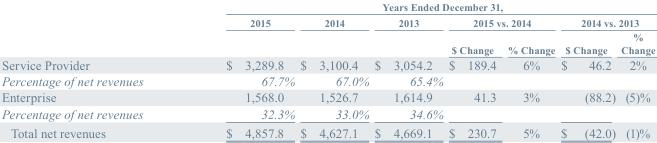table: (0, 0, 654, 140)
table column: (0, 0, 183, 140), (183, 0, 296, 140), (370, 0, 445, 140), (296, 0, 370, 140), (557, 0, 617, 140), (445, 0, 501, 140), (501, 0, 557, 140), (617, 0, 654, 140)
table column header: (0, 0, 654, 56)
table row: (0, 29, 654, 56), (0, 105, 654, 123), (0, 88, 654, 105), (0, 123, 654, 140), (0, 56, 654, 72), (0, 72, 654, 88), (0, 14, 654, 29), (0, 0, 654, 14)
table spanning cell: (183, 0, 654, 14), (183, 14, 296, 56), (370, 14, 445, 56), (296, 14, 370, 56), (445, 14, 557, 29), (557, 14, 654, 29)
